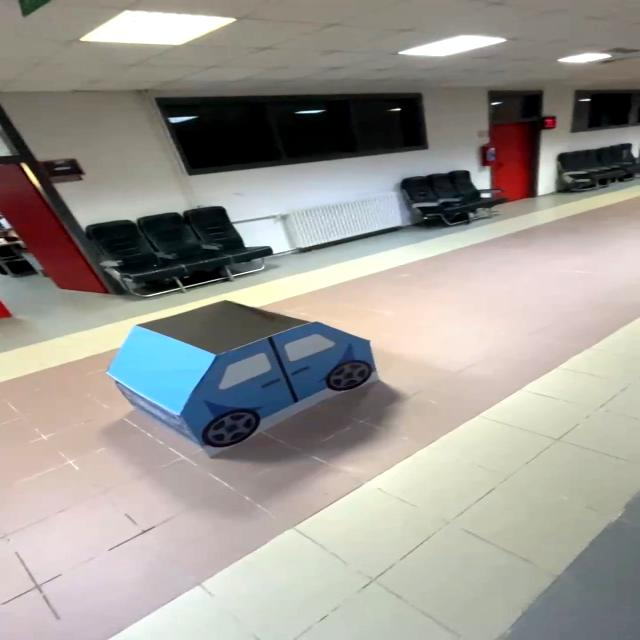blue_car: (96, 290, 394, 462)
